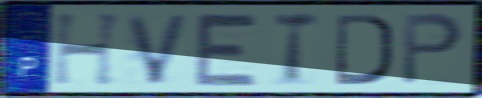D: (334, 11, 396, 87)
E: (192, 10, 262, 88)
H: (50, 11, 127, 88)
P: (399, 11, 466, 88)
T: (271, 10, 322, 87)
V: (124, 12, 194, 87)
